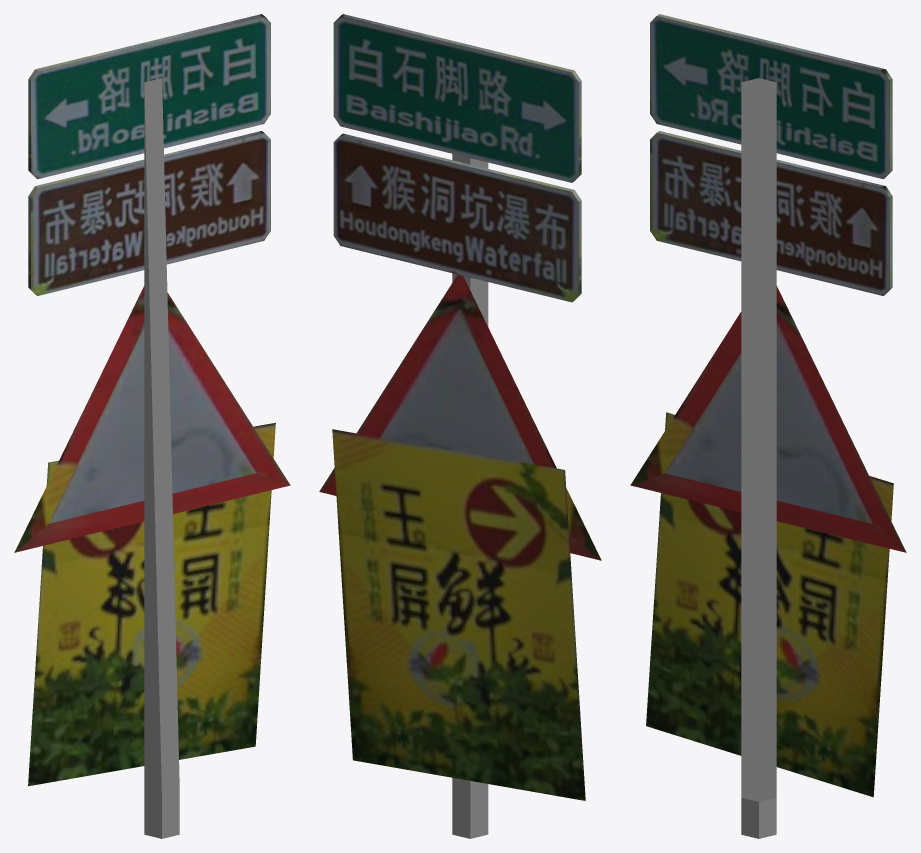
Rendered from 告示牌.fbx.
3 renders of one model, left to right at view 1: azimuth 30°, elevation 25°; view 2: azimuth 150°, elevation 25°; view 3: azimuth 330°, elevation 25°, orthographic. The views are drawn at different scales.
Visible parts, largest first — view 1: 5_告示牌; view 2: 5_告示牌; view 3: 5_告示牌.
Part boxes in pixels (<box>): 5_告示牌: <box>14,14,290,838</box>; 5_告示牌: <box>319,14,601,838</box>; 5_告示牌: <box>630,14,906,838</box>.
Bounding box in the file's own units: 173 × 466 × 24.52.
2 materials, 1 textured.
